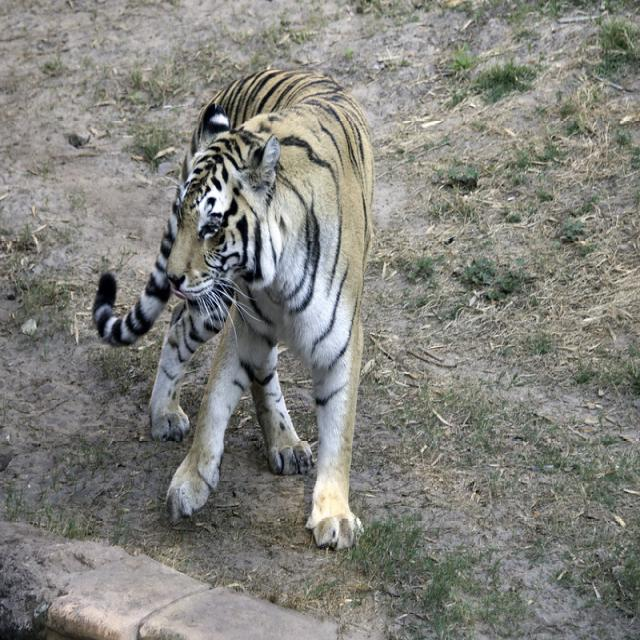Tiger: (85, 59, 380, 554)
